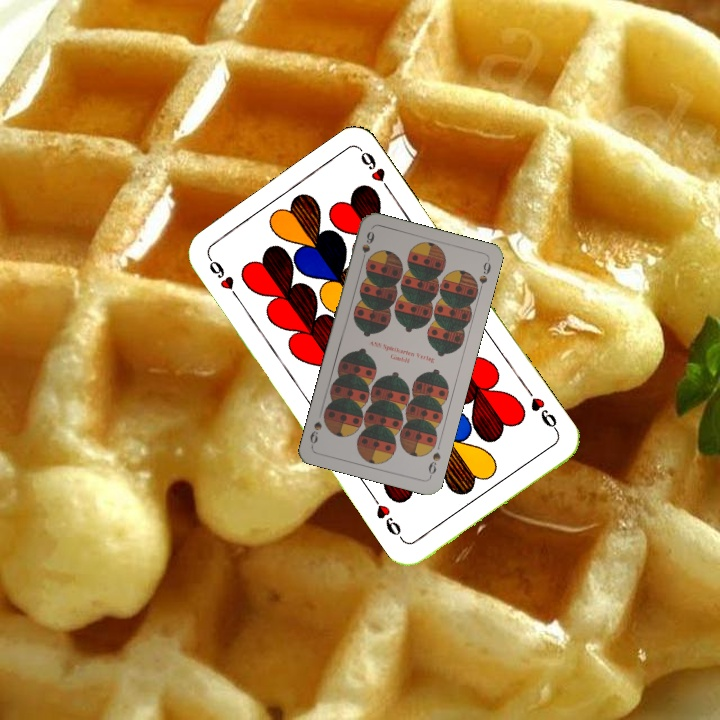H9: (204, 253, 244, 305), (526, 393, 562, 436)
S9: (357, 227, 377, 266), (424, 448, 443, 480)
